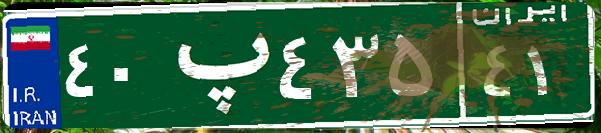0: (110, 28, 158, 105)
1: (525, 38, 570, 115)
3: (330, 28, 385, 110)
4: (273, 28, 330, 110), (57, 26, 110, 107), (475, 38, 525, 113)
5: (385, 28, 445, 110)
پ: (158, 15, 273, 115)
